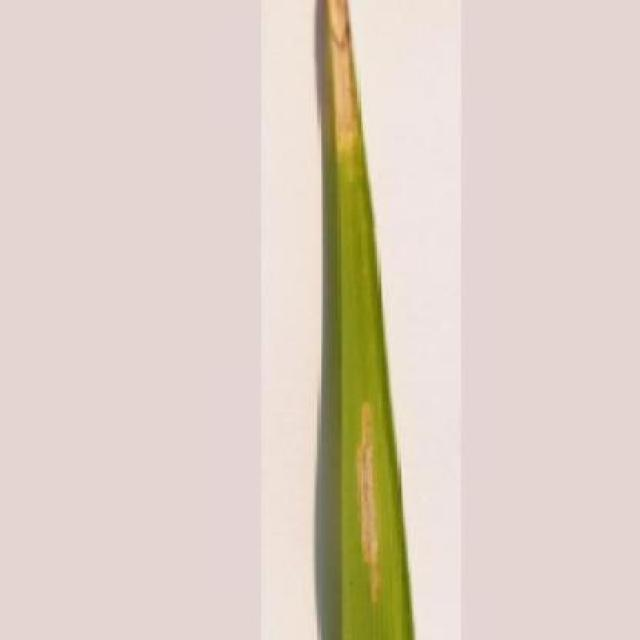Brown_Spot: (315, 0, 420, 640)
